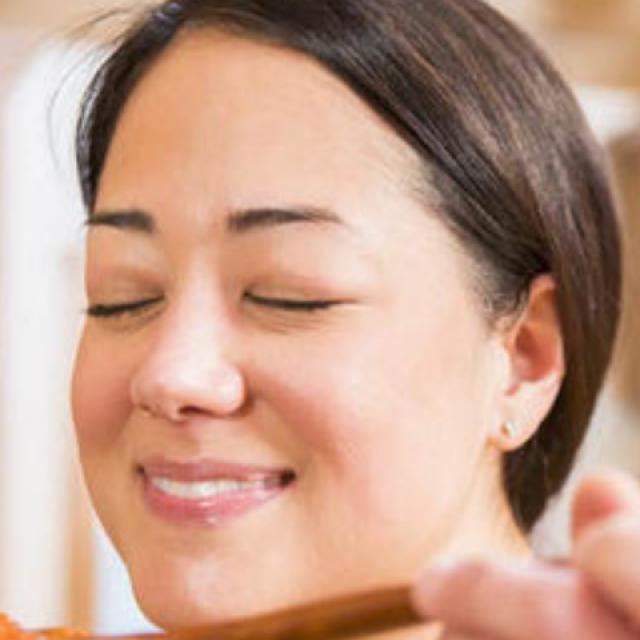close: (201, 198, 375, 336), (83, 194, 177, 347)
